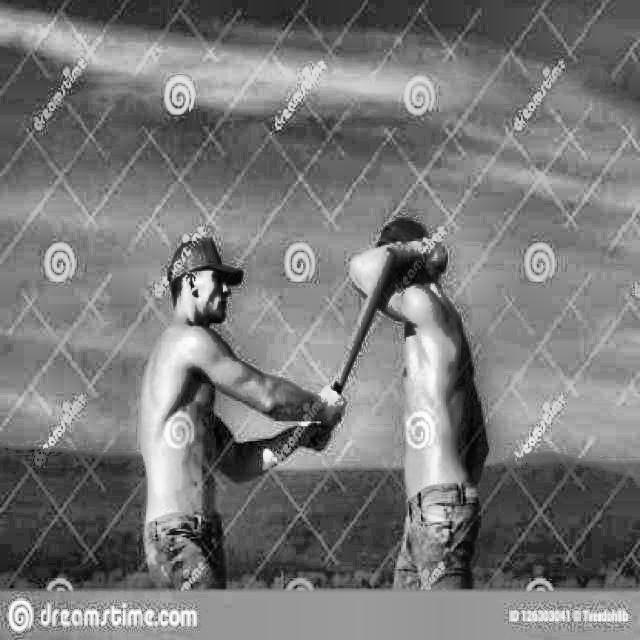tongkat pemukul: (282, 240, 402, 463)
